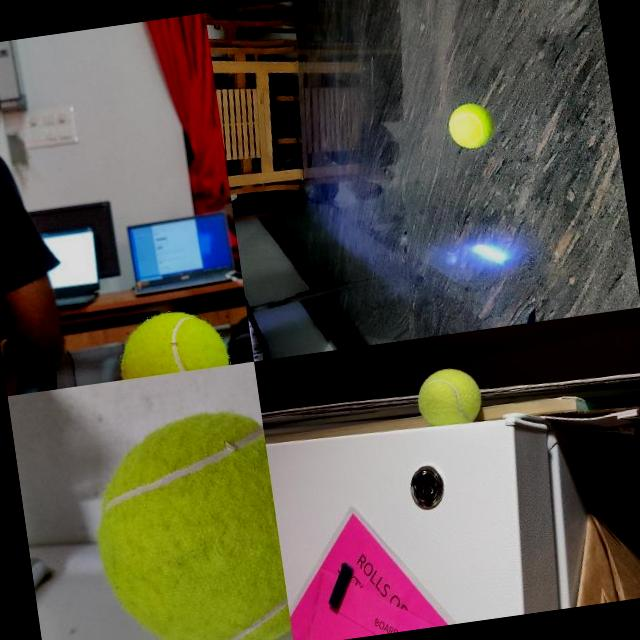tennis-ball: (79, 404, 293, 640), (115, 306, 228, 379), (413, 364, 484, 427), (446, 100, 496, 152)
